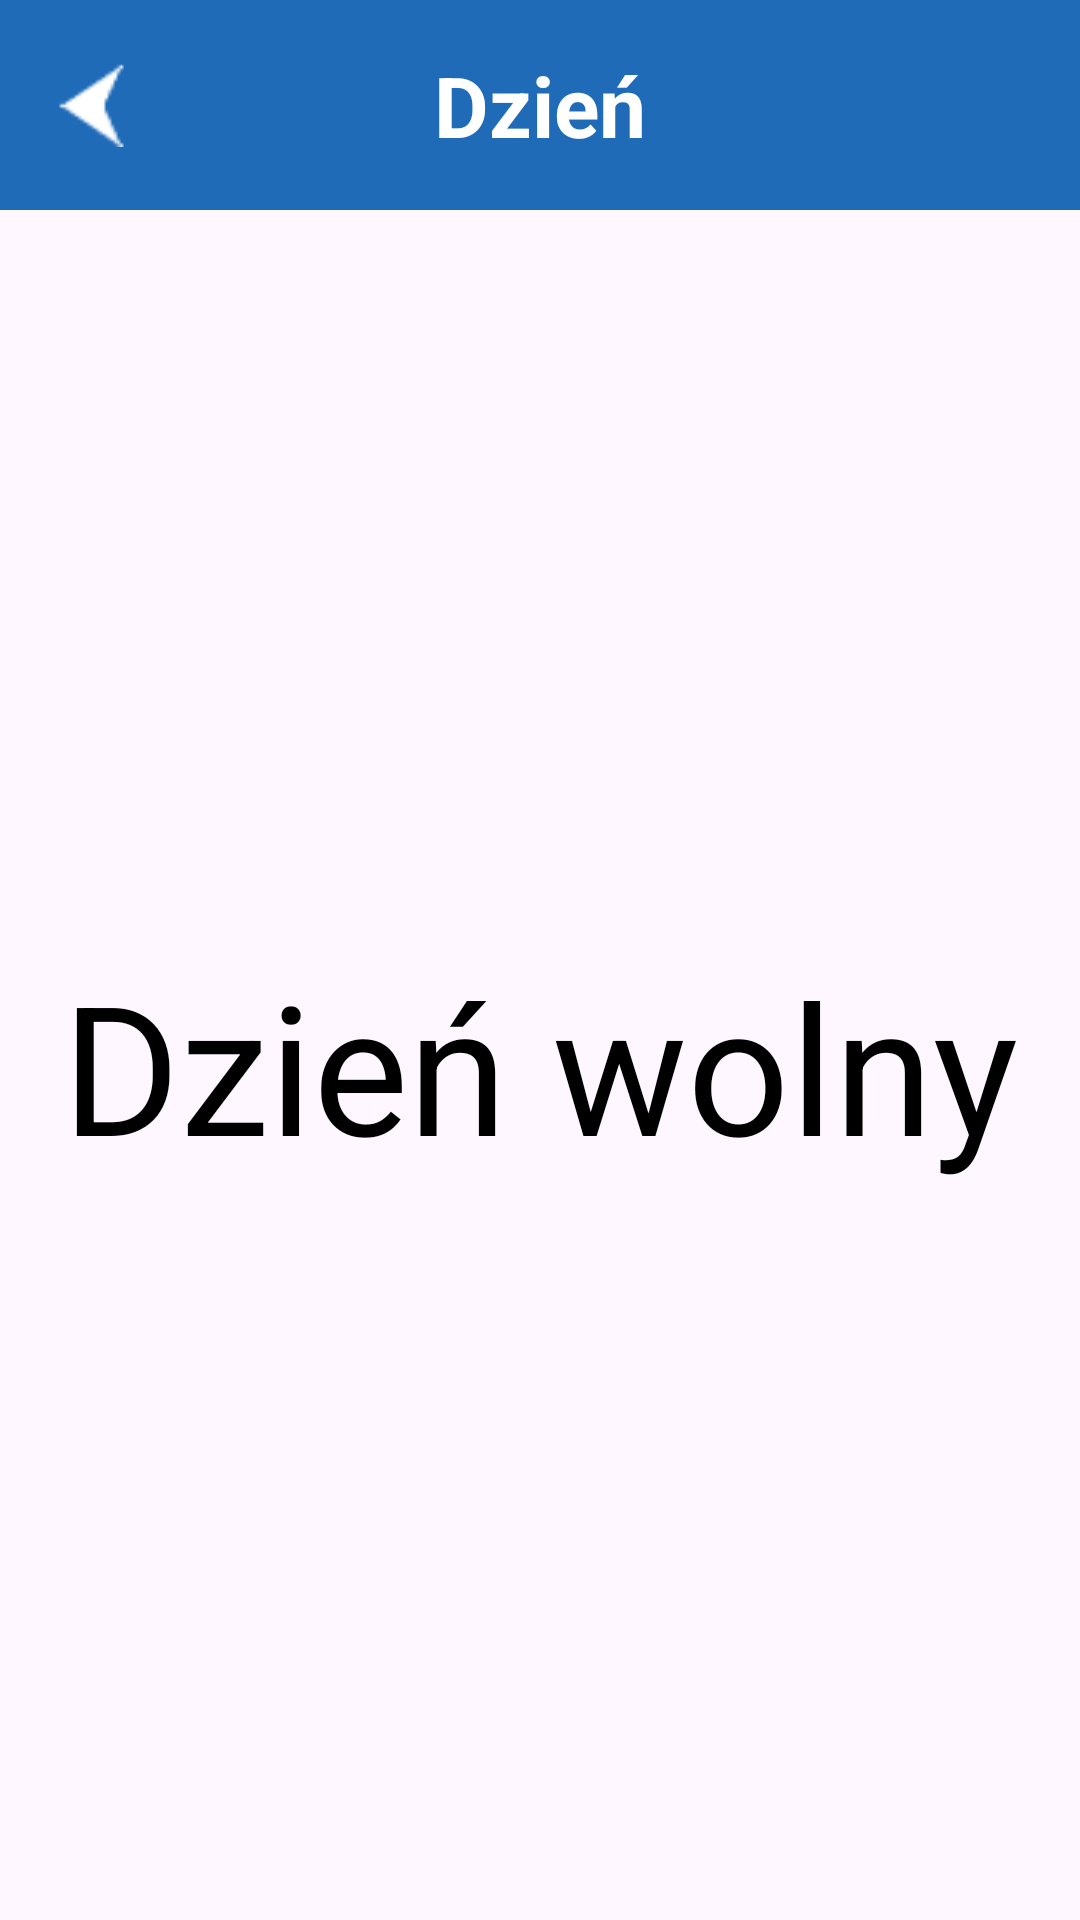

Screen size 1080*1920. Icon name, then its box in pixels as (x1, y1, x2, y2):
back: (59, 64, 124, 147)
